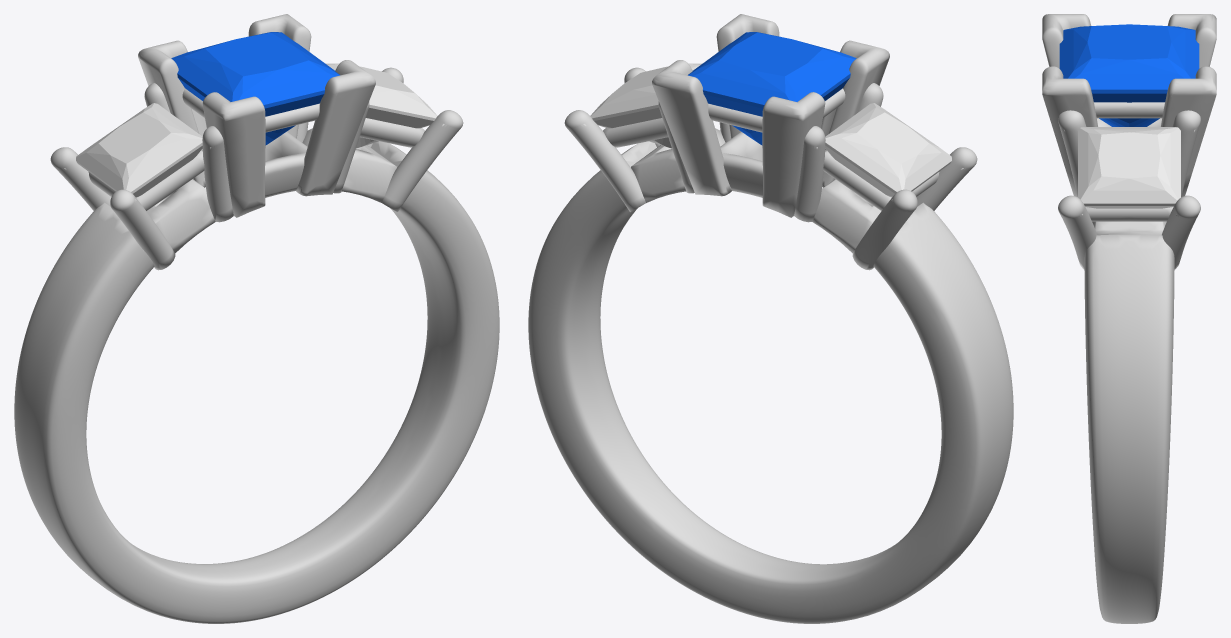
Rendered from bluesapphire-princess-platinum-protectededges4prongs-straighttaperedband-3stone.glb.
The picture shows the model from 3 angles, left to right: view 1: azimuth 30°, elevation 25°; view 2: azimuth 150°, elevation 25°; view 3: azimuth 270°, elevation 25°; orthographic projection.
Visible parts, largest first — view 1: metal, stone, side.001, side; view 2: metal, stone, side.001, side; view 3: metal, stone, side.
Part boxes in pixels (box(x1,y1,x2,y2)): metal: box(14, 14, 499, 623); stone: box(171, 32, 339, 145); side.001: box(76, 103, 202, 197); side: box(326, 63, 437, 148); metal: box(528, 14, 1013, 623); stone: box(688, 32, 856, 145); side.001: box(825, 103, 951, 197); side: box(590, 63, 701, 148); metal: box(1042, 14, 1216, 623); stone: box(1059, 24, 1199, 126); side: box(1078, 127, 1180, 208).
Bounding box in the file's own units: 20.51 × 23.86 × 6.77.
